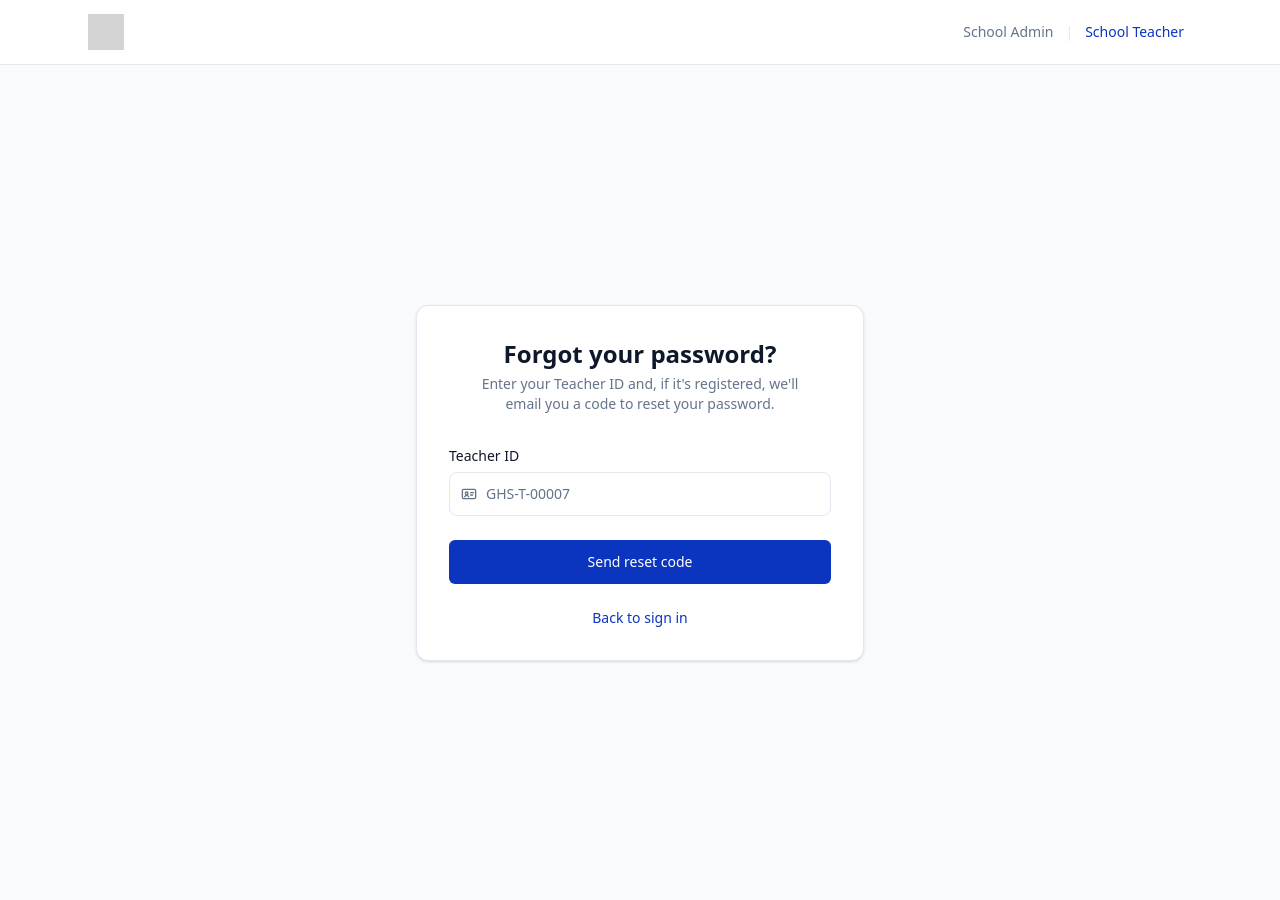
TeacherForgotPasswordPage › always confirms the request and moves to the code + password step
The width and height of the screenshot is (1280, 900).
Check: the heading "Forgot your password?" is shown, box [504,336,776,370]
Type "GHS-T-99999" into the field labelled "Teacher ID" at coordinates (640, 494), box [449,472,831,516]
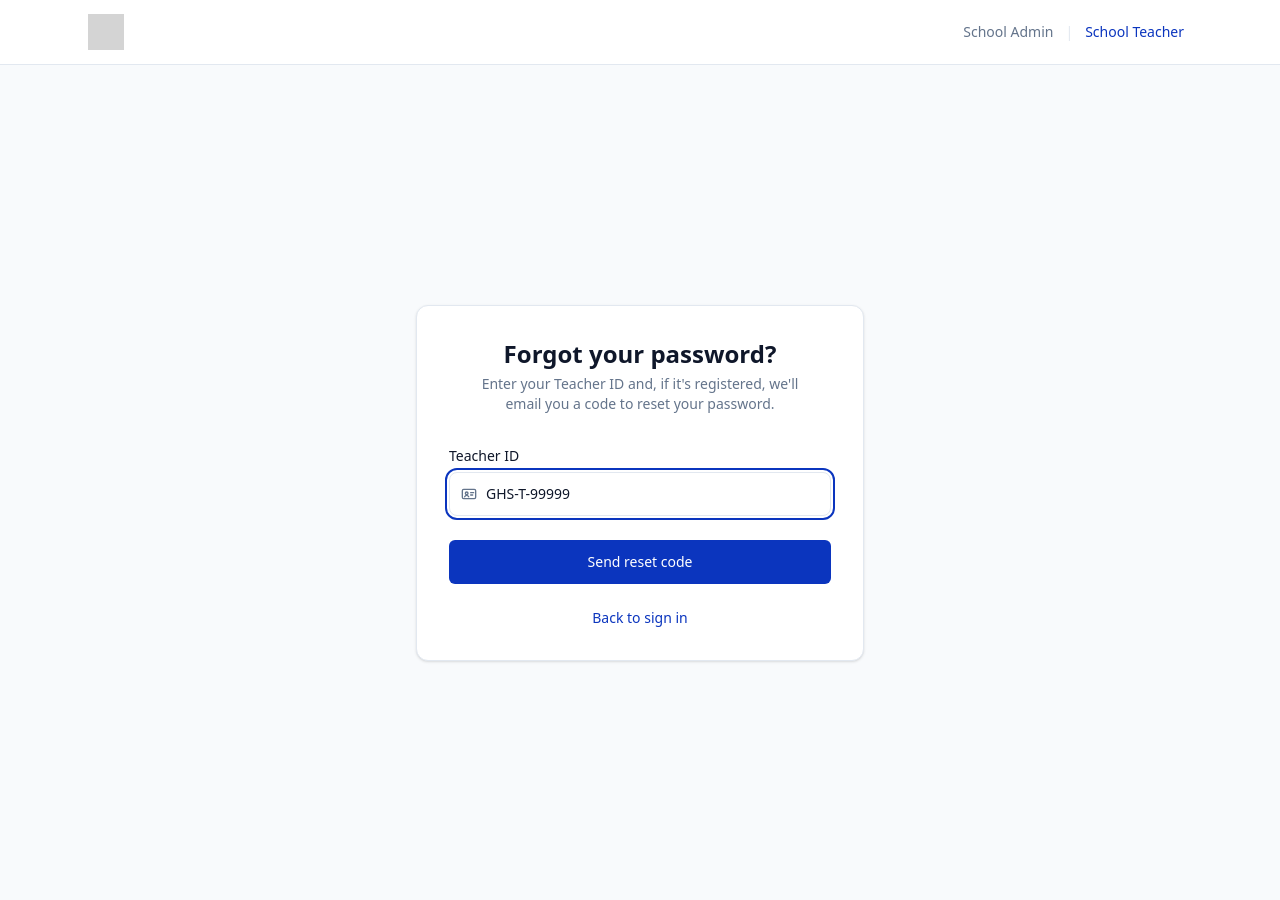
Click the button "Send reset code" at coordinates (640, 562), box [449,540,831,584]
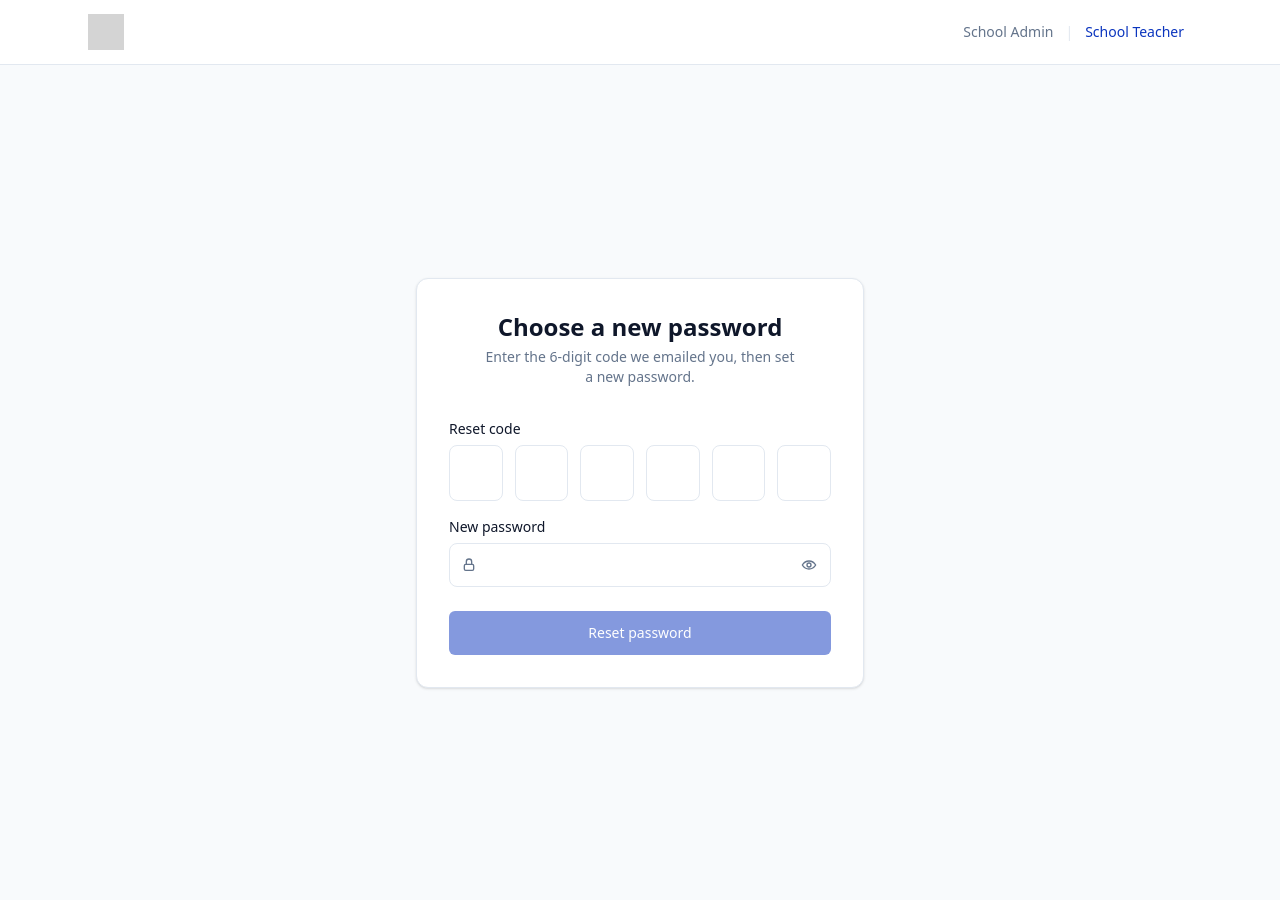
Check: the heading "Choose a new password" is shown, box [498,310,782,342]
